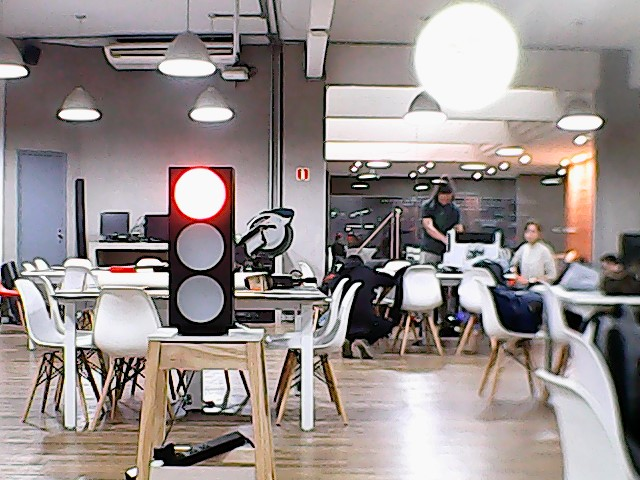vermelho: (164, 160, 237, 333)
